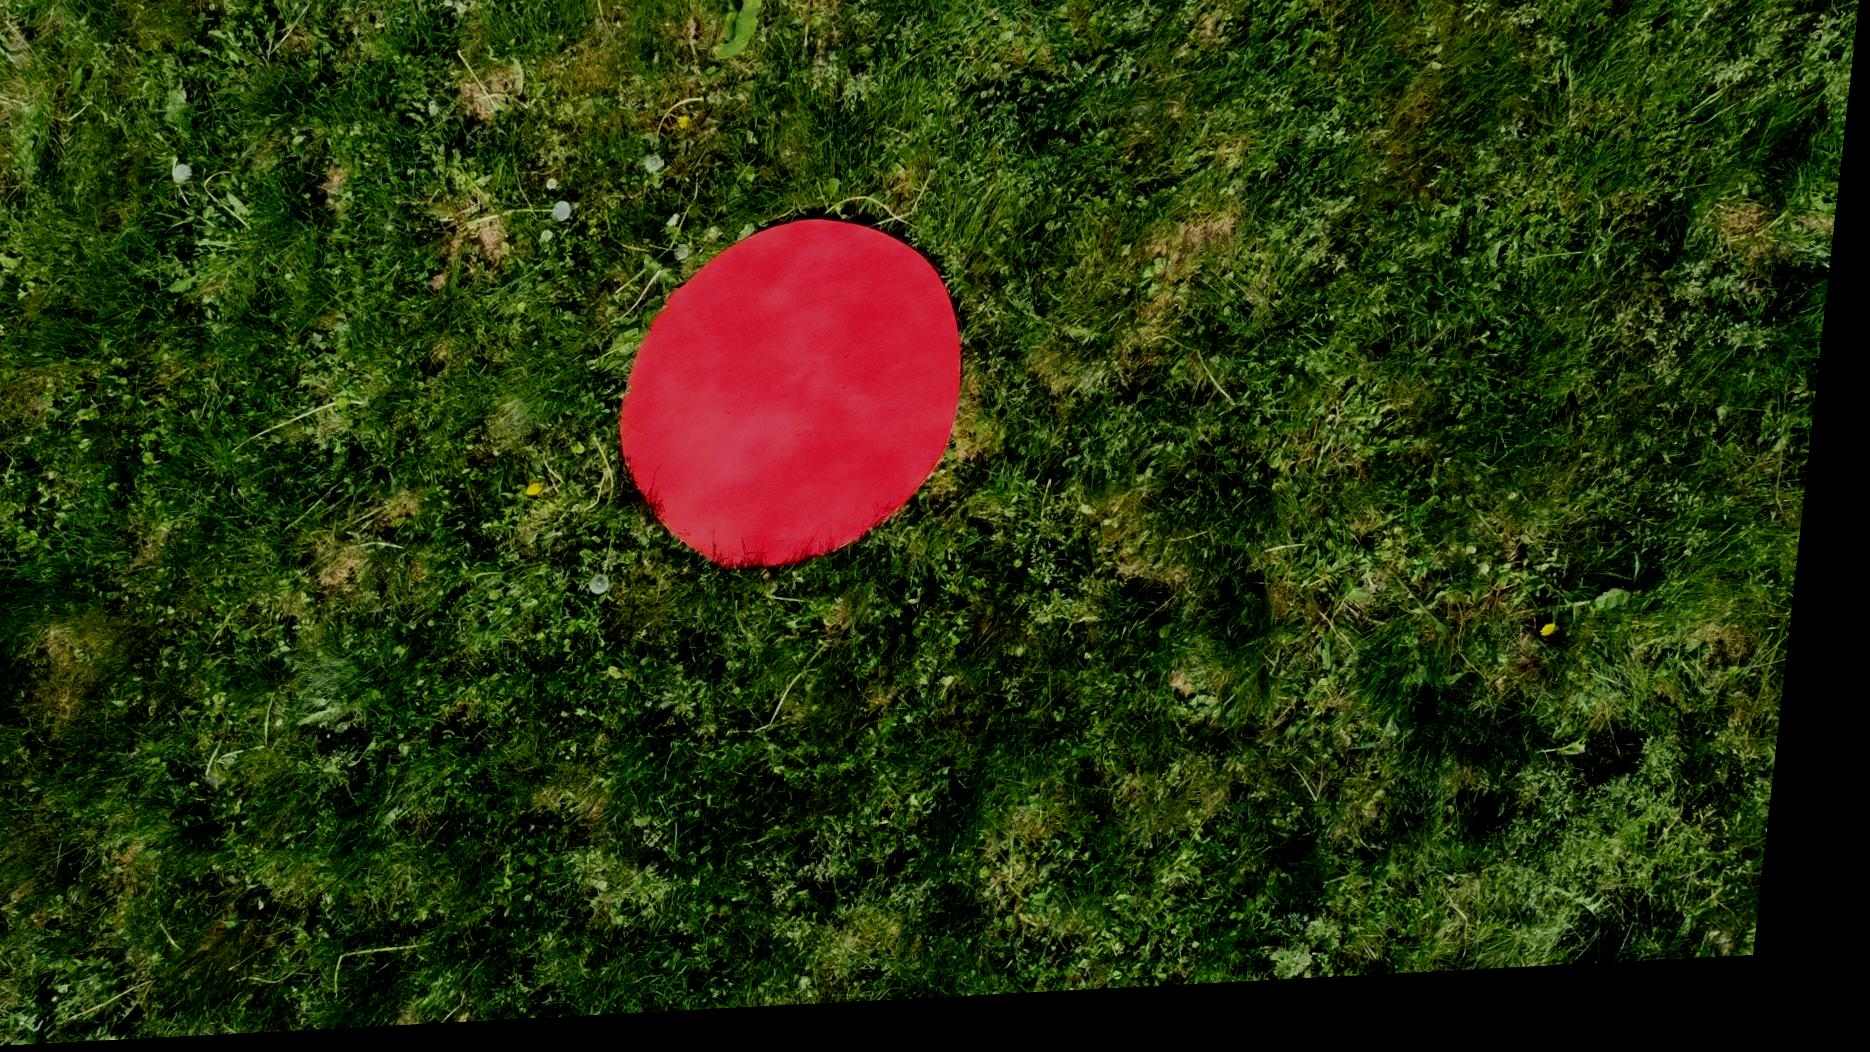Red: (604, 206, 1002, 591)
